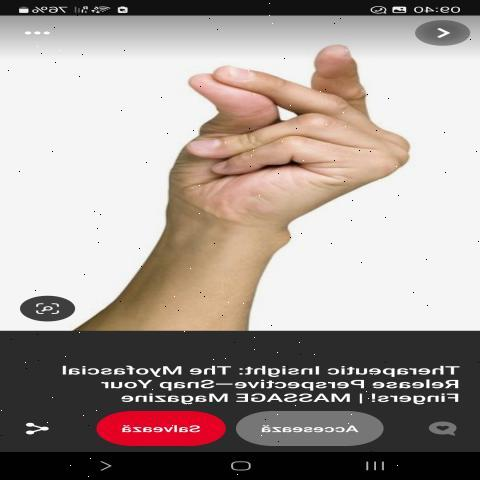Hands: (98, 23, 426, 268)
